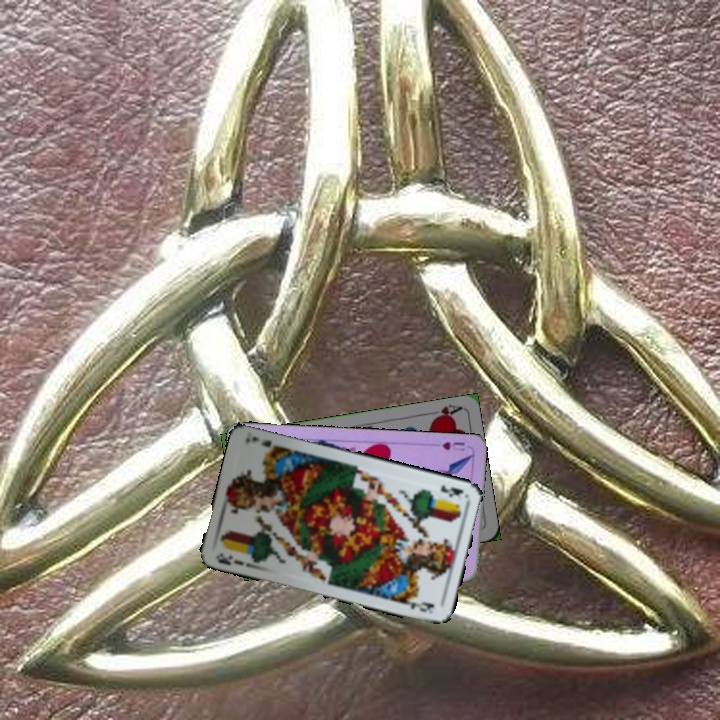EK: (213, 548, 246, 568), (437, 481, 465, 499)
HA: (423, 400, 464, 423)
HU: (438, 438, 467, 453)
